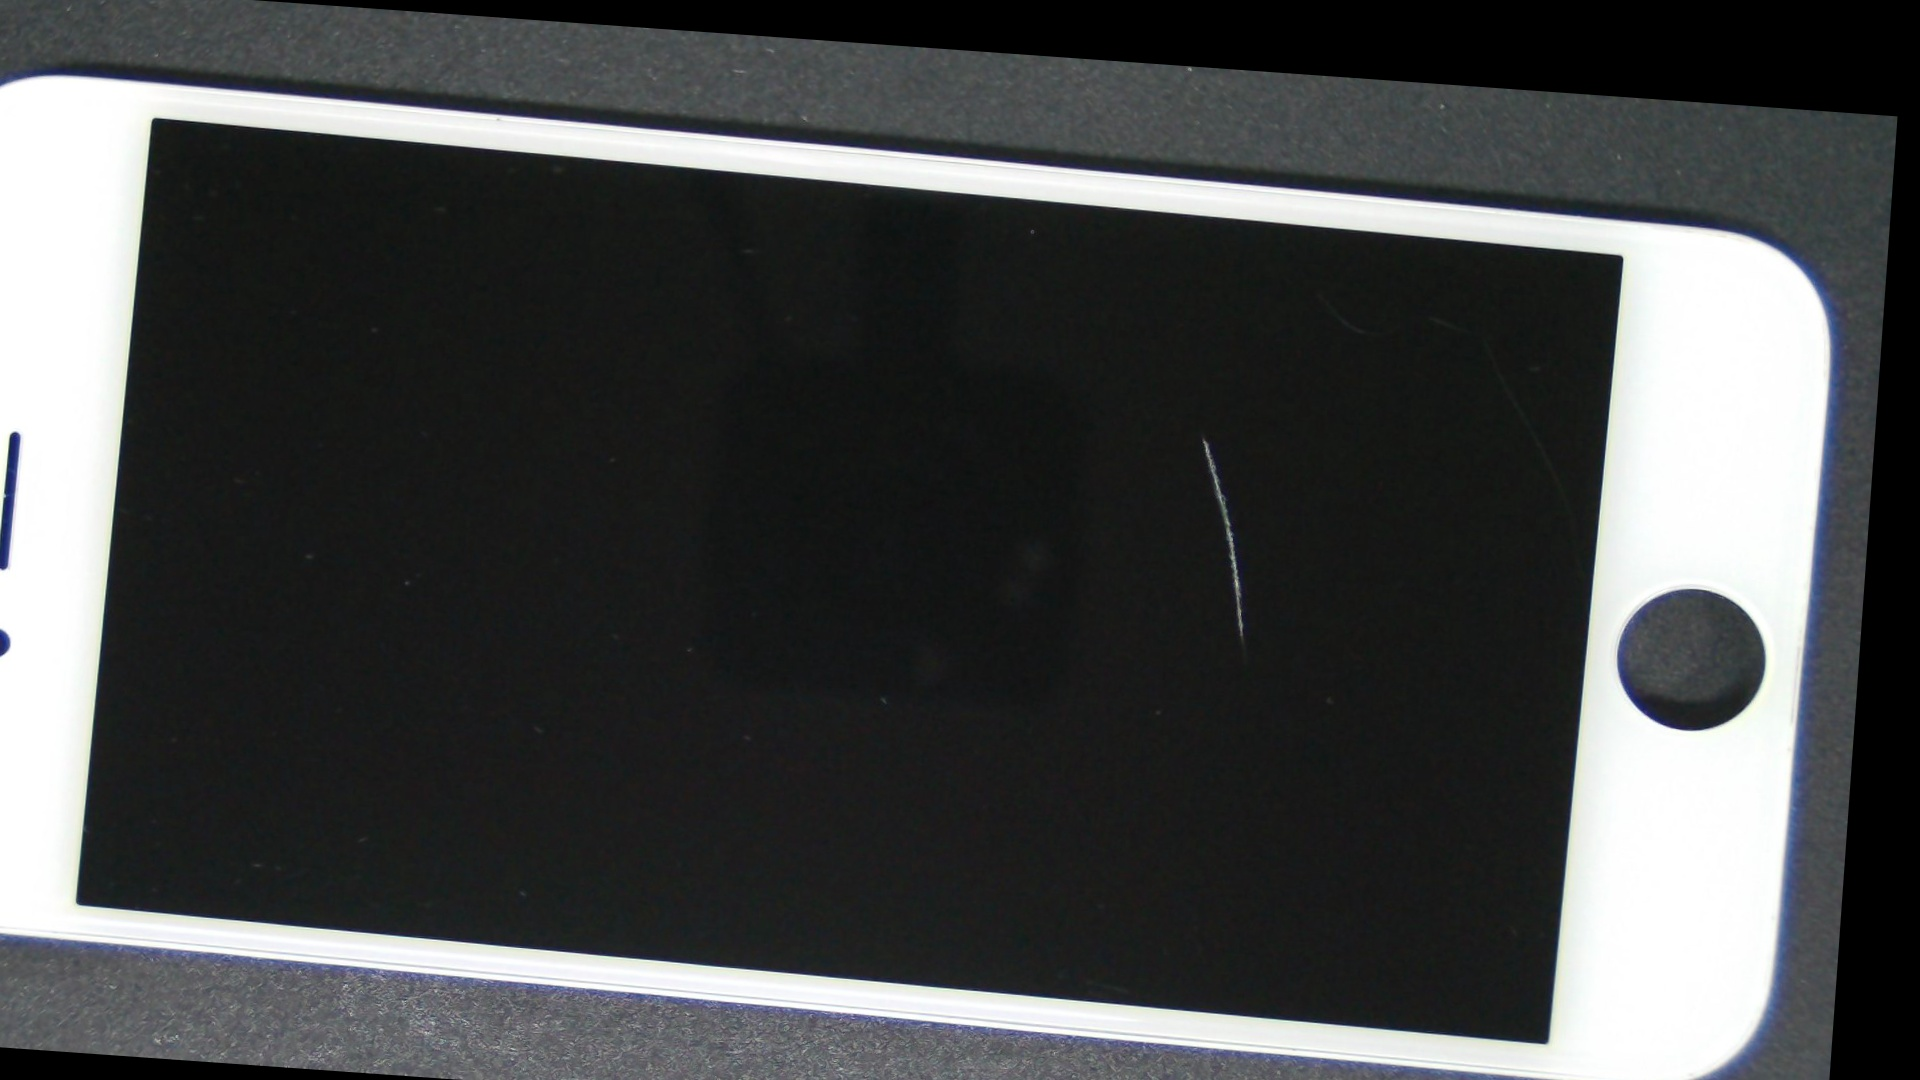oil: (529, 204, 1874, 670)
